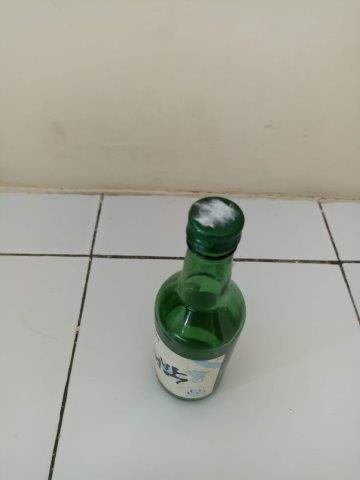botolkaca: (151, 197, 248, 404)
